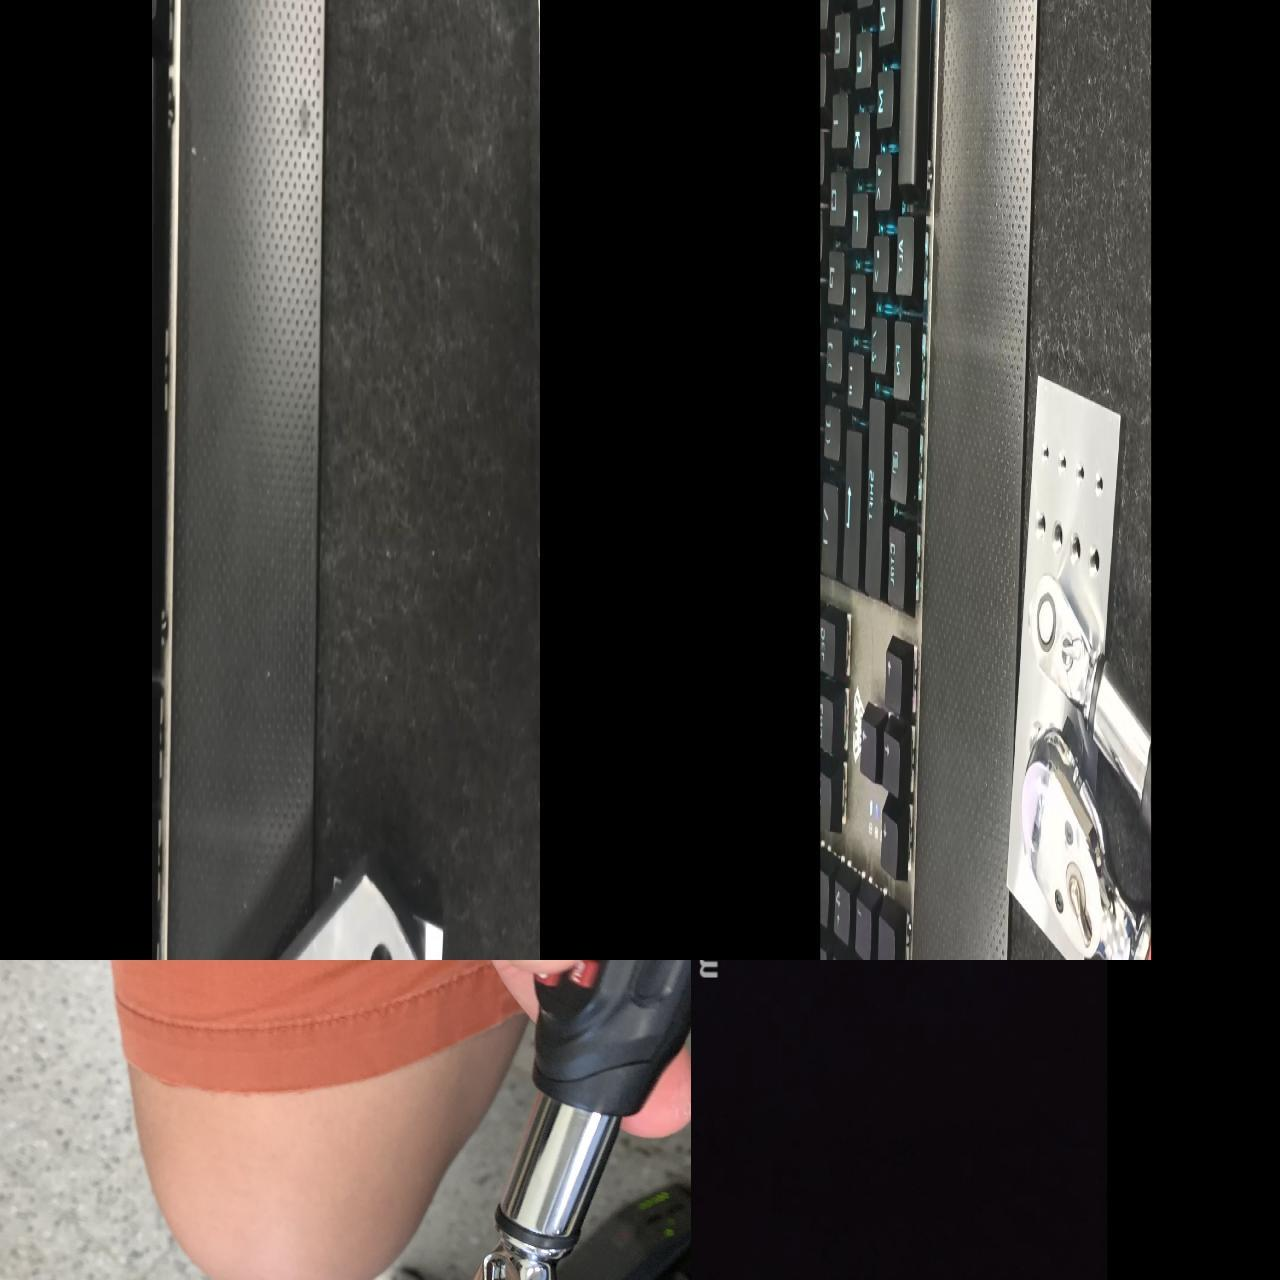Tool: (1022, 741, 1144, 960), (1027, 572, 1092, 700), (444, 1228, 573, 1280)
